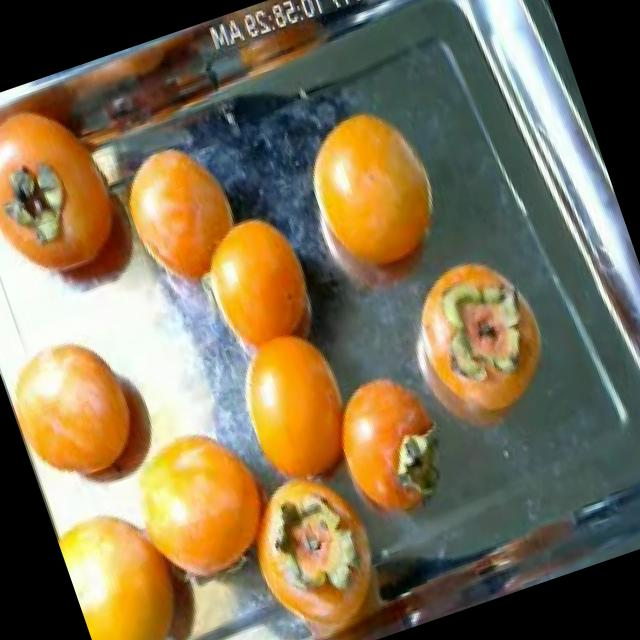Fruit: (0, 296, 188, 529), (276, 80, 469, 306), (98, 115, 274, 322), (188, 188, 354, 398), (307, 344, 473, 546), (394, 235, 566, 424)
